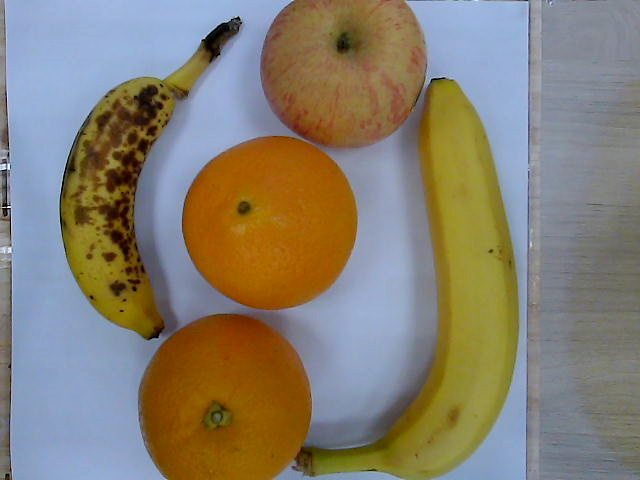fresh_apple: (260, 1, 428, 146)
fresh_banana: (306, 79, 521, 480), (60, 19, 240, 334)
fresh_orange: (183, 137, 358, 311), (138, 314, 311, 480)
